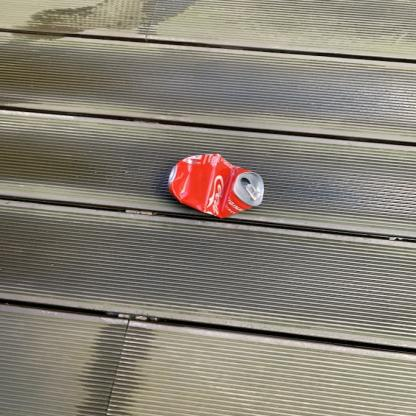trash: (164, 154, 266, 218)
